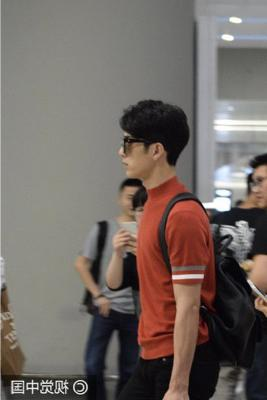without_mask: (117, 134, 155, 182), (119, 193, 143, 218), (250, 174, 266, 211)
